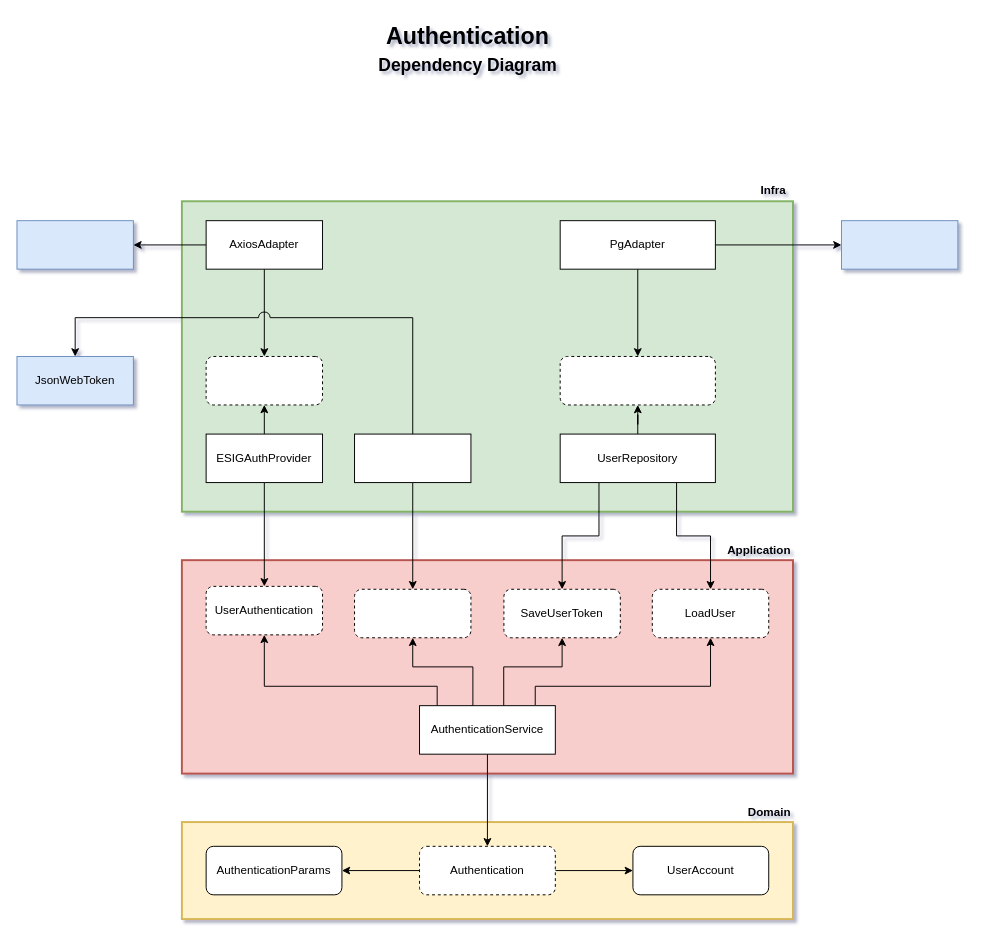
Some shapes in this 981 by 942 pixel diagram are drawn without their labels. The shapes that lost their labels are listed below. From the top down, each one's centre as x and y in pixels, then its label:
At point 74,244: "Axios".
At point 899,244: "PostgreSQL".
At point 264,380: "HttpClient".
At point 637,380: "DatabaseGateway".
At point 412,458: "Jwt TokenHandler".
At point 412,613: "TokenHandler".
